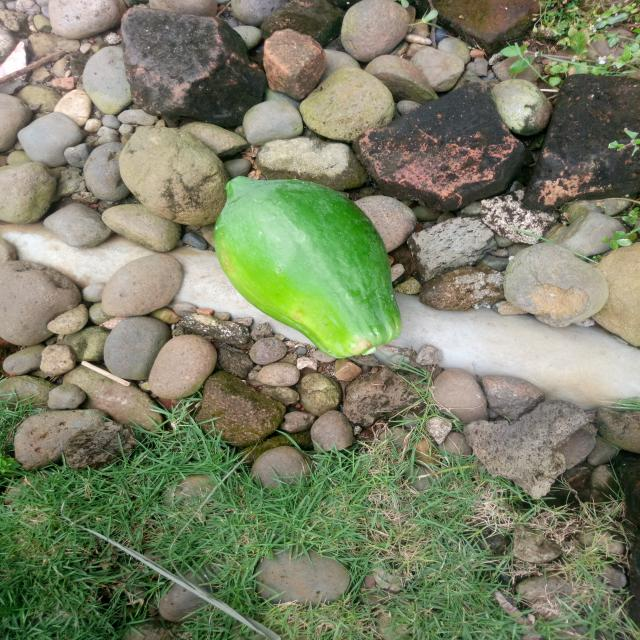Pepaya unrippen: (213, 166, 403, 360)
